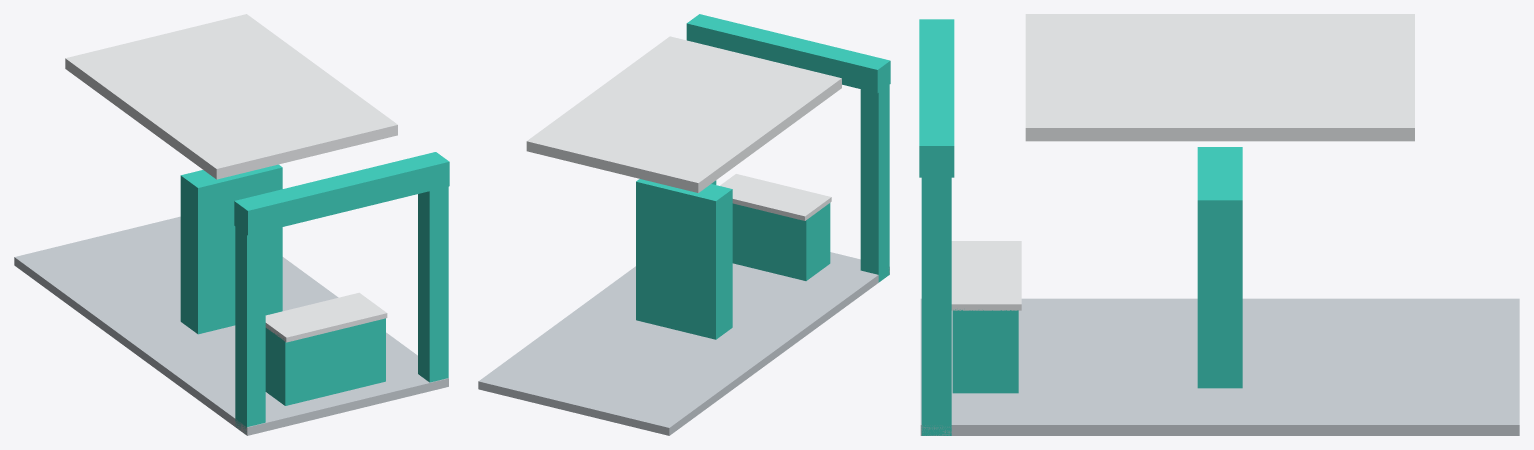
3 renders of one model, left to right at view 1: azimuth 30°, elevation 25°; view 2: azimuth 150°, elevation 25°; view 3: azimuth 270°, elevation 25°, orthographic. The views are drawn at different scales.
Parts seen in each view (by area): view 1: Exhibition Booth Concept; view 2: Exhibition Booth Concept; view 3: Exhibition Booth Concept.
Part boxes in pixels (<box>): Exhibition Booth Concept: <box>14,14,449,435</box>; Exhibition Booth Concept: <box>478,14,890,435</box>; Exhibition Booth Concept: <box>919,14,1519,435</box>.
Size of the model in its own units: 3 by 3.34 by 6.02.
